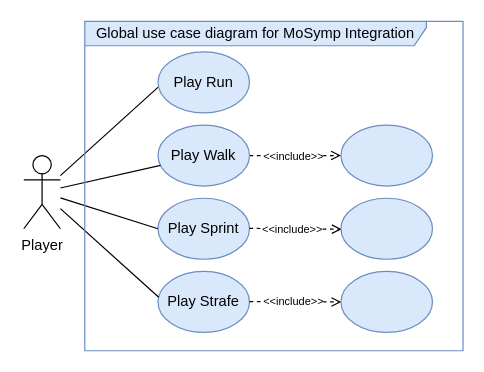
This 484x372 diagram has some shape labels left out. The shapes that lost their labels are listed below. From the top down, each one's box as (x1, y1, x2, y2) in pixels, then its label:
(340, 124, 432, 186): Hold Right Mouse
(340, 197, 432, 259): Hold Shift Key
(340, 270, 432, 332): Press Control Key
